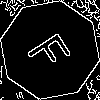F: (25, 25, 80, 76)
